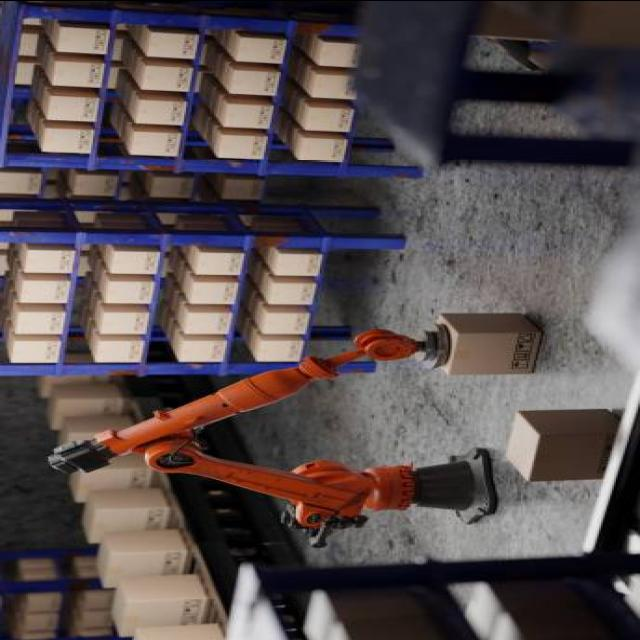Robotic-arm: (38, 324, 502, 552)
